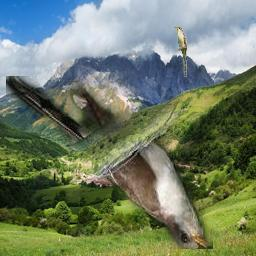Cuckoo: (7, 77, 214, 250), (175, 27, 188, 78)
